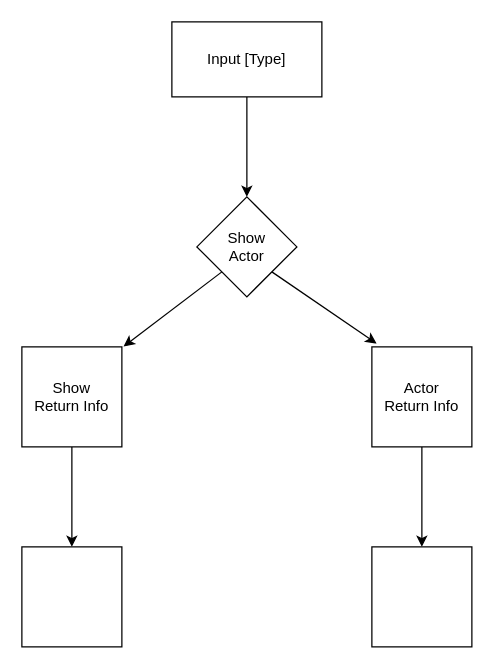
Image size: 494x669. Some labels were removed from this diagram. The centre of each missing label's shape, as x and y in pixels:
Display Actor Info && Log: point 421,596
Display Show Info && Log: point 71,596
